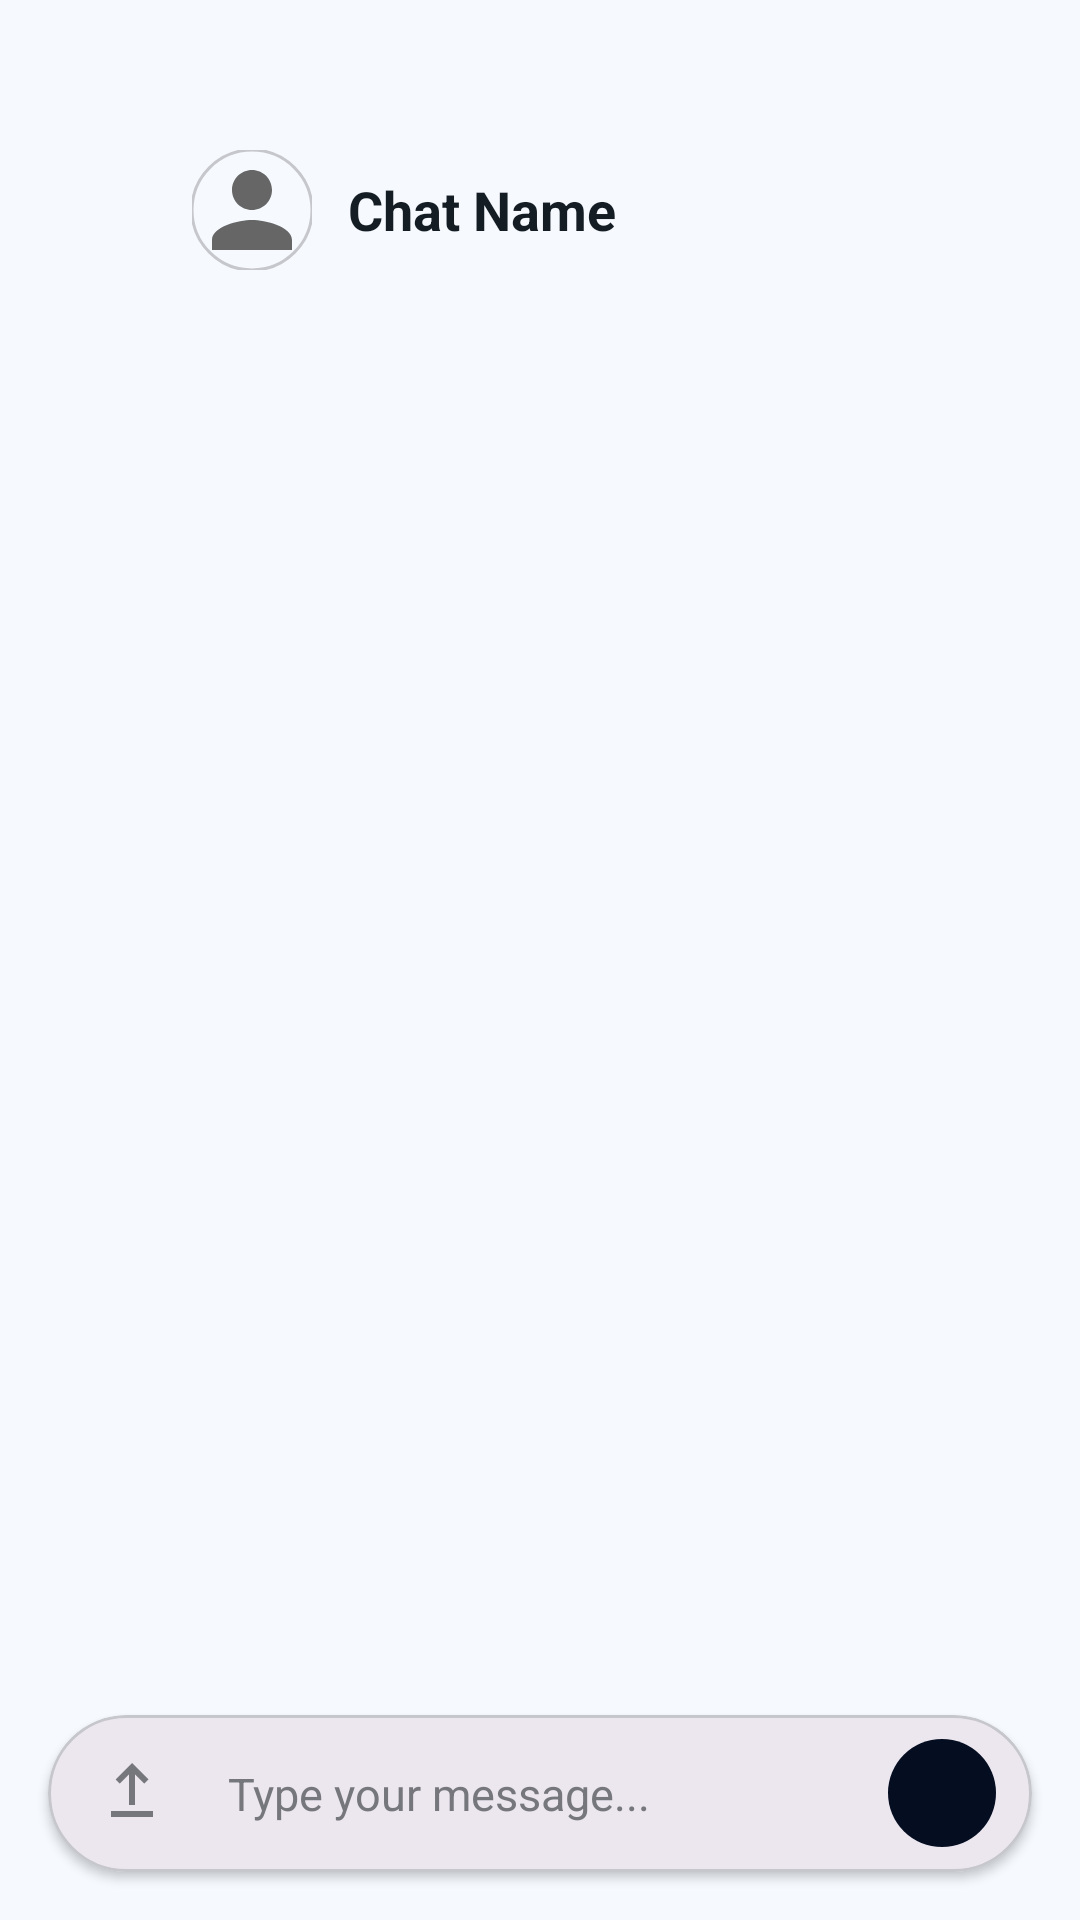

Icons on this 1080*1920 Android screen, each with the point to tap as point (x, y):
profile: point (252, 210)
upload: point (132, 1790)
